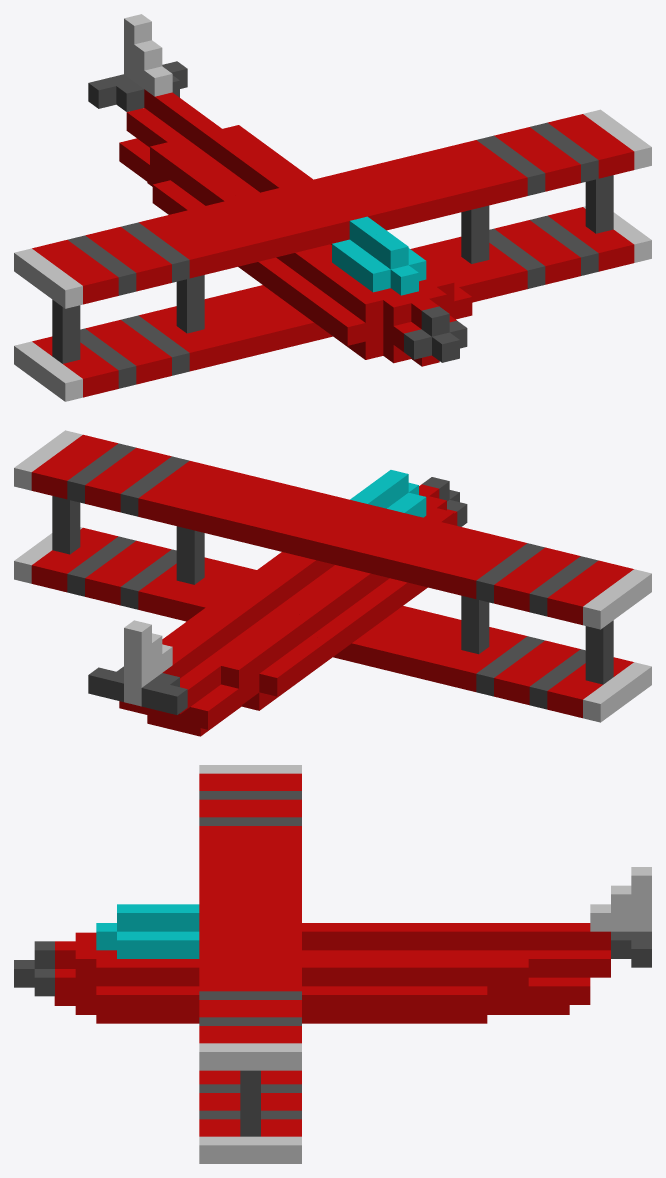
Rendered from Double Plane.fbx.
The picture shows the model from 3 angles, top to bottom: view 1: azimuth 30°, elevation 25°; view 2: azimuth 150°, elevation 25°; view 3: azimuth 270°, elevation 25°; orthographic projection.
Parts seen in each view (by area): view 1: Cube_790, Cube_760, Cube_513, Cube_661, Cube_483, Cube_689, Cube_4, Cube_675, Cube_684, Cube_31, Cube_666, Cube_467 (+12 smaller); view 2: Cube_342, Cube_666, Cube_725, Cube_22, Cube_627, Cube_407, Cube_392, Cube_570, Cube_560, Cube_559, Cube_557, Cube_534 (+67 smaller); view 3: Cube_506, Cube_789, Cube_95, Cube_67, Cube_43, Cube_39, Cube_718, Cube_301, Cube_768, Cube_779, Cube_774, Cube_772 (+69 smaller).
Part boxes in pixels (x1,y1,x2,y2): Cube_790: (380,239,408,269); Cube_760: (362,262,390,292); Cube_513: (383,295,411,325); Cube_661: (355,292,383,322); Cube_483: (337,315,365,345); Cube_689: (134,40,162,70); Cube_4: (421,306,449,336); Cube_675: (116,82,144,111); Cube_684: (144,66,172,96); Cube_31: (390,265,418,295); Cube_666: (88,78,116,108); Cube_467: (55,371,82,401); Cube_342: (259,666,287,696); Cube_666: (159,685,187,714); Cube_725: (190,699,218,729); Cube_22: (124,620,151,650); Cube_627: (221,658,248,688); Cube_407: (583,692,610,722); Cube_392: (583,599,610,629); Cube_570: (52,529,80,554); Cube_560: (176,540,204,566); Cube_559: (176,559,204,584); Cube_557: (585,640,613,665); Cube_534: (461,628,489,654); Cube_506: (75,950,96,977); Cube_789: (178,904,199,931); Cube_95: (178,986,199,1013); Cube_67: (322,986,343,1013); Cube_43: (425,986,446,1013); Cube_39: (466,986,487,1013); Cube_718: (569,950,590,977); Cube_301: (219,1043,240,1070); Cube_768: (178,931,199,958); Cube_779: (322,923,343,950); Cube_774: (425,923,446,950); Cube_772: (466,923,487,950).
Bounding box in the file's own units: 396 × 96 × 372.
